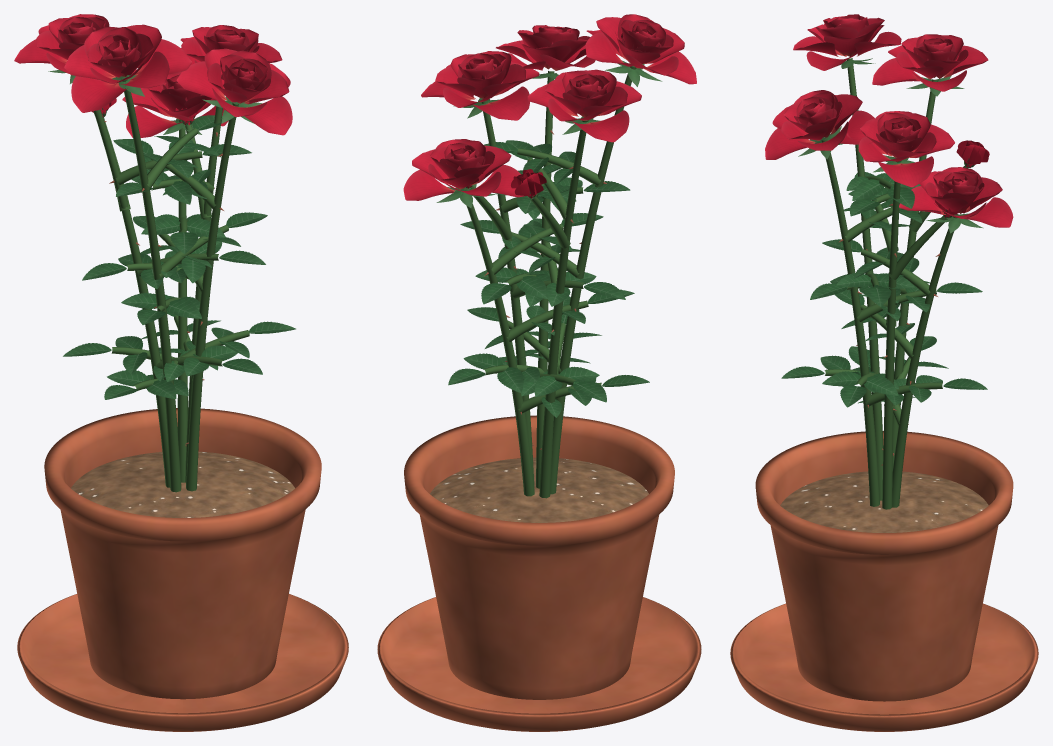
File: rose.glb
The picture shows the model from 3 angles, left to right: view 1: azimuth 30°, elevation 25°; view 2: azimuth 150°, elevation 25°; view 3: azimuth 270°, elevation 25°; orthographic projection. The views are drawn at different scales.
Visible parts, largest first — view 1: piece-0, piece-1, piece-93, piece-2, piece-75, piece-41, piece-58, piece-22, piece-3; view 2: piece-0, piece-1, piece-93, piece-2, piece-58, piece-3, piece-22, piece-75, piece-41, piece-39; view 3: piece-0, piece-1, piece-93, piece-2, piece-41, piece-3, piece-22, piece-58, piece-75, piece-39.
Boxes of the visible parts, box(x1,y1,x2,y2) form: piece-0: box(44, 408, 321, 699); piece-1: box(17, 594, 348, 731); piece-93: box(93, 78, 249, 492); piece-2: box(71, 451, 294, 517); piece-75: box(64, 24, 191, 112); piece-41: box(176, 48, 292, 135); piece-58: box(122, 72, 228, 137); piece-22: box(14, 14, 136, 76); piece-3: box(180, 25, 282, 65); piece-0: box(404, 415, 674, 699); piece-1: box(377, 597, 701, 731); piece-93: box(461, 66, 636, 498); piece-2: box(430, 457, 648, 522); piece-58: box(403, 139, 524, 200); piece-3: box(421, 51, 539, 120); piece-22: box(527, 69, 641, 142); piece-75: box(585, 14, 696, 84); piece-41: box(496, 25, 595, 72); piece-39: box(511, 169, 546, 198); piece-0: box(755, 431, 1013, 701); piece-1: box(730, 603, 1038, 731); piece-93: box(821, 58, 967, 509); piece-2: box(780, 471, 988, 532); piece-41: box(765, 90, 878, 159); piece-3: box(847, 111, 954, 187); piece-22: box(872, 34, 988, 91); piece-58: box(899, 167, 1013, 227); piece-75: box(793, 14, 901, 70); piece-39: box(956, 140, 989, 168).
Bounding box in the file's own units: 0.196 × 0.4362 × 0.196.
9 materials, 7 textured.
